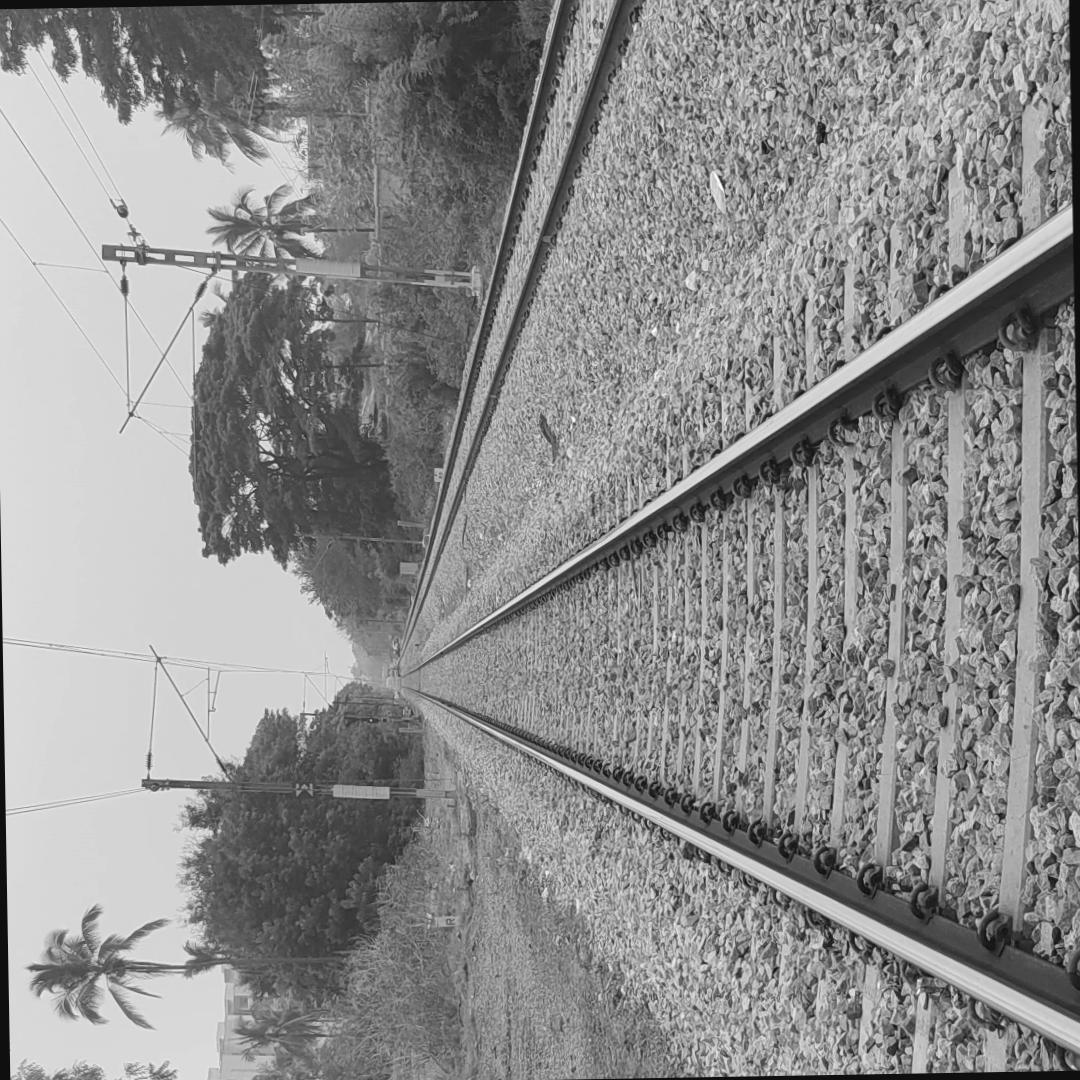track: (391, 73, 1080, 1072)
